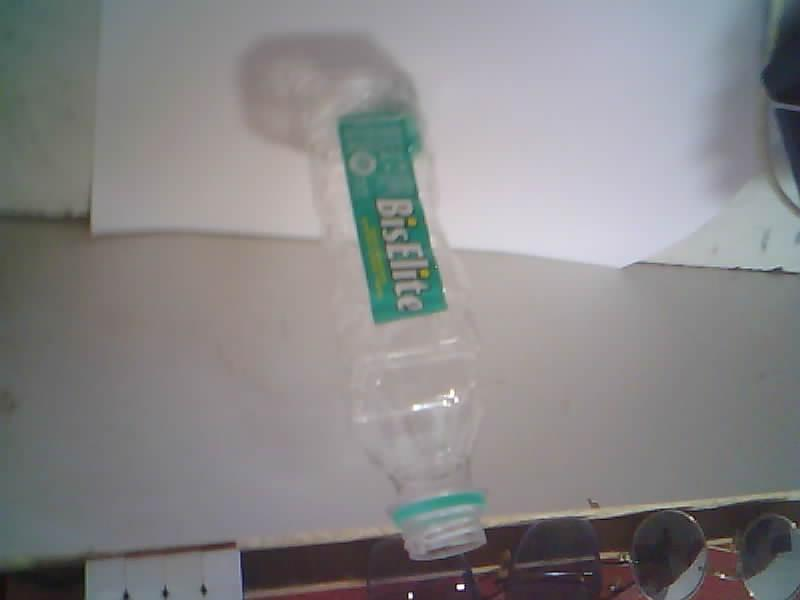non-biodegradable: (252, 49, 484, 559)
